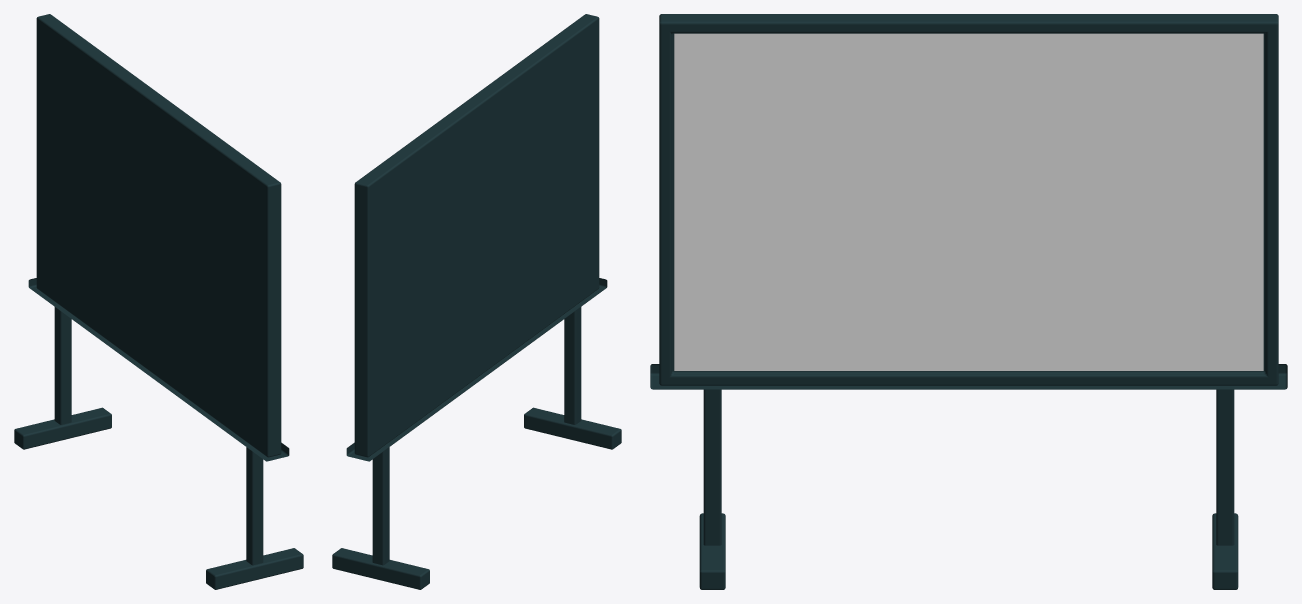
The model's file is Board.fbx.
The picture shows the model from 3 angles, left to right: view 1: azimuth 30°, elevation 25°; view 2: azimuth 150°, elevation 25°; view 3: azimuth 270°, elevation 25°; orthographic projection. The views are drawn at different scales.
Parts seen in each view (by area): view 1: Cube.001; view 2: Cube.001; view 3: Cube.001.
Boxes of the visible parts, x1=… form: Cube.001: x1=14, y1=14, x2=303, y2=589; Cube.001: x1=332, y1=14, x2=621, y2=589; Cube.001: x1=650, y1=14, x2=1287, y2=589.
Size of the model in its own units: 44.54 by 194 by 206.
